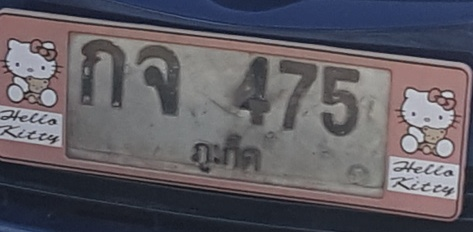txt01: (75, 36, 127, 111)
txt06: (135, 43, 184, 119)
